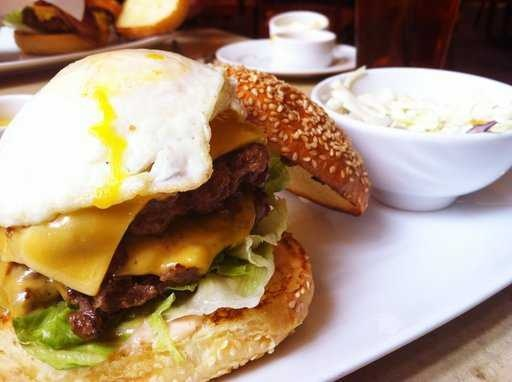hamburger: (3, 54, 338, 375)
